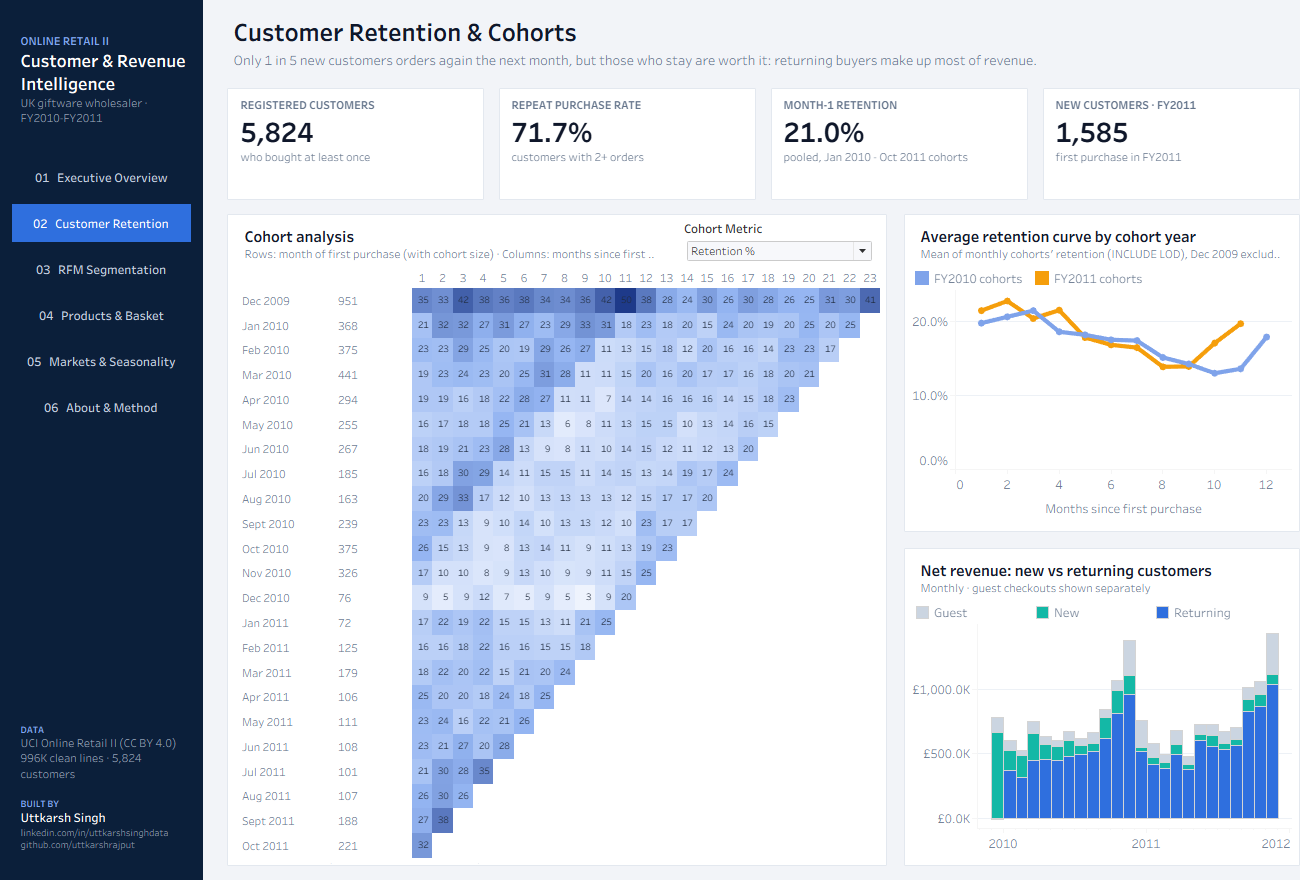

The dashboard page shown, as its layout file describes it:
{"tool":"tableau","page":{"name":"Customer Retention","canvas":[1300,880],"ordinal":1},"visuals":[{"type":"blank","box":[0,0,200,880]},{"type":"text","box":[224,14,820,34]},{"type":"text","box":[14,22,180,118]},{"type":"text","box":[224,48,980,24]},{"type":"blank","box":[224,88,253.5,112]},{"type":"blank","box":[491.5,88,253.5,112]},{"type":"blank","box":[759,88,253.5,112]},{"type":"blank","box":[1026.5,88,253.5,112]},{"type":"worksheet","title":"KPI Registered Customers","mark":"Text","box":[232,98,237.5,94]},{"type":"worksheet","title":"KPI Repeat Rate","mark":"Text","box":[499.5,98,237.5,94]},{"type":"worksheet","title":"KPI Month-1 Retention","mark":"Text","box":[767,98,237.5,94]},{"type":"worksheet","title":"KPI New Customers","mark":"Text","box":[1034.5,98,237.5,94]},{"type":"dashboard-object","box":[12,158,176,38]},{"type":"dashboard-object","box":[12,204,176,38]},{"type":"blank","box":[224,214,650,652]},{"type":"blank","box":[890,214,390,318]},{"type":"parameter","param":"[Parameters].[Parameter 2]","box":[672,218,192,52]},{"type":"text","box":[234,222,420,44]},{"type":"text","box":[900,222,370,44]},{"type":"dashboard-object","box":[12,250,176,38]},{"type":"worksheet","title":"Cohort Retention Heatmap","mark":"Square","rows":["Calculation_2059223677622971448","Calculation_1262784706064146951"],"cols":["Calculation_1599952471569089697"],"box":[232,268,634,590]},{"type":"worksheet","title":"Cohort Revenue Heatmap","mark":"Square","rows":["Calculation_2059223677622971448","Calculation_1262784706064146951"],"cols":["Calculation_1599952471569089697"],"box":[232,268,634,590]},{"type":"legend","title":"Retention Curves","param":"[federated.0q7799243600930394697339726a].[none:Calculation_2875842500385660215:n","box":[898,268,374,22]},{"type":"worksheet","title":"Retention Curves","mark":"Line","rows":["Calculation_3198745854401661419"],"cols":["Calculation_1599952471569089697"],"box":[898,290,374,234]},{"type":"dashboard-object","box":[12,296,176,38]},{"type":"dashboard-object","box":[12,342,176,38]},{"type":"dashboard-object","box":[12,388,176,38]},{"type":"blank","box":[890,548,390,318]},{"type":"text","box":[900,556,370,44]},{"type":"legend","title":"New vs Returning Revenue","param":"[federated.0q7799243600930394697339726a].[none:Calculation_2972974273418002234:n","box":[898,602,374,22]},{"type":"worksheet","title":"New vs Returning Revenue","mark":"Bar","rows":["Calculation_1692587521312325413"],"cols":["Invoice Date"],"box":[898,624,374,234]},{"type":"text","box":[14,712,180,156]},{"type":"text","box":[234,846,400,18]}]}

Visuals, with their boxes in screenshot pixels (x1, y1, x2, y2), scaled from the page's 1300x880 canvas onto the 1300x880 screenshot:
blank: (0, 0, 200, 879)
text: (224, 14, 1044, 48)
text: (14, 22, 194, 140)
text: (224, 48, 1204, 72)
blank: (224, 88, 478, 200)
blank: (492, 88, 745, 200)
blank: (759, 88, 1012, 200)
blank: (1026, 88, 1280, 200)
"KPI Registered Customers" worksheet (Text marks): (232, 98, 470, 192)
"KPI Repeat Rate" worksheet (Text marks): (500, 98, 737, 192)
"KPI Month-1 Retention" worksheet (Text marks): (767, 98, 1004, 192)
"KPI New Customers" worksheet (Text marks): (1034, 98, 1272, 192)
dashboard-object: (12, 158, 188, 196)
dashboard-object: (12, 204, 188, 242)
blank: (224, 214, 874, 866)
blank: (890, 214, 1280, 532)
parameter: (672, 218, 864, 270)
text: (234, 222, 654, 266)
text: (900, 222, 1270, 266)
dashboard-object: (12, 250, 188, 288)
"Cohort Retention Heatmap" worksheet (Square marks): (232, 268, 866, 858)
"Cohort Revenue Heatmap" worksheet (Square marks): (232, 268, 866, 858)
"Retention Curves" legend: (898, 268, 1272, 290)
"Retention Curves" worksheet (Line marks): (898, 290, 1272, 524)
dashboard-object: (12, 296, 188, 334)
dashboard-object: (12, 342, 188, 380)
dashboard-object: (12, 388, 188, 426)
blank: (890, 548, 1280, 866)
text: (900, 556, 1270, 600)
"New vs Returning Revenue" legend: (898, 602, 1272, 624)
"New vs Returning Revenue" worksheet (Bar marks): (898, 624, 1272, 858)
text: (14, 712, 194, 868)
text: (234, 846, 634, 864)
